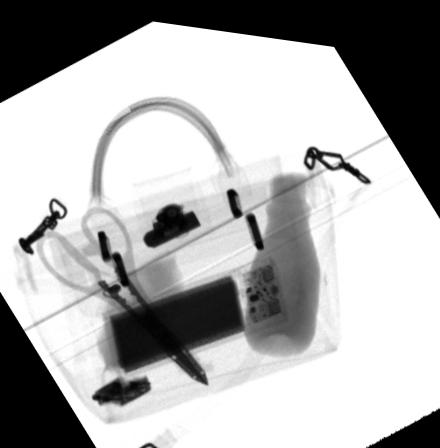Powerbank: (97, 244, 294, 376)
Scissors: (34, 203, 208, 383)
